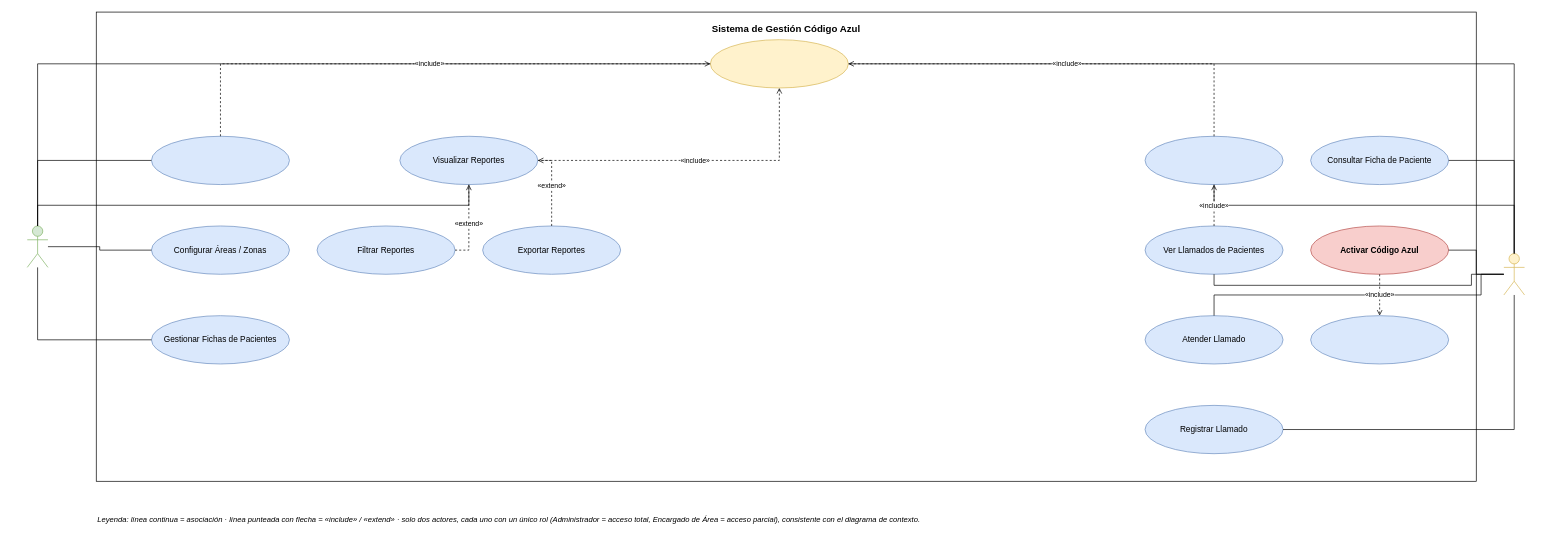
The diagram is 1546 pixels wide and 542 high, and some of its shapes have lost their labels. The shapes that lost their labels are listed below. From the top down, each one's box as (x1, y1, x2, y2) in pixels, then its label:
(710, 39, 848, 88): Autenticarse
(151, 136, 289, 185): Gestionar Usuarios
(1144, 136, 1283, 185): Iniciar Sesión en App Móvil
(27, 225, 48, 267): Administrador (Acceso total)
(1503, 253, 1525, 295): Encargado de Área (Acceso parcial)
(1310, 315, 1449, 364): Propagar Alerta
